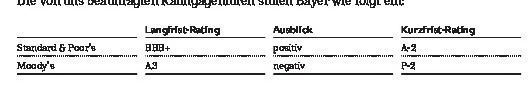table: (0, 0, 530, 94)
